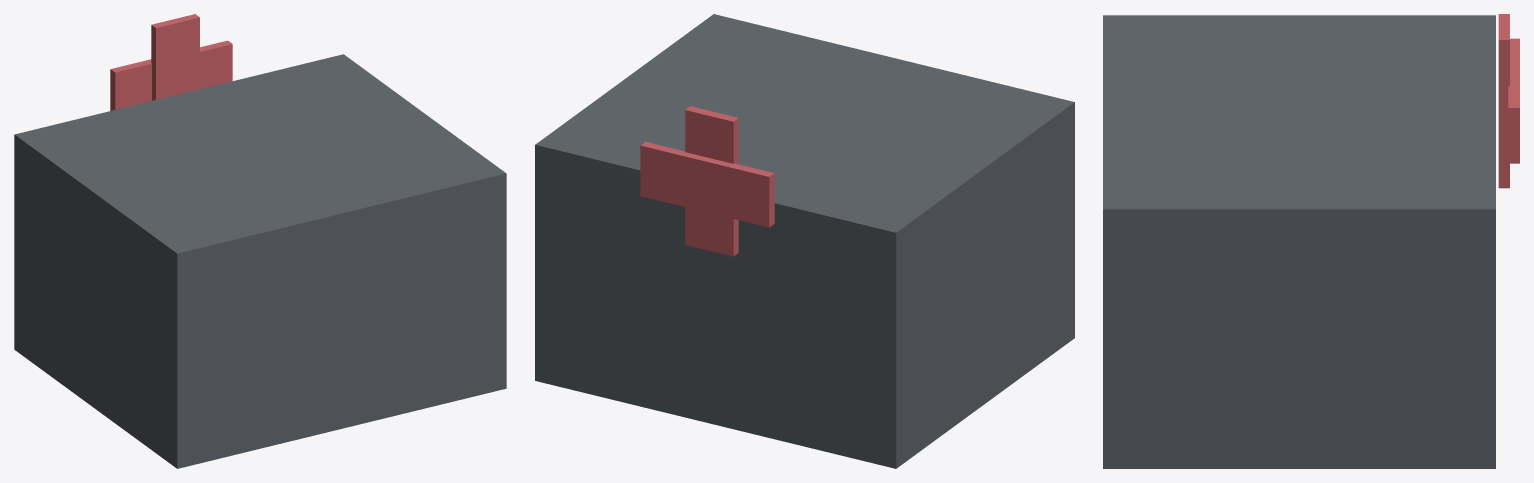
File: health_kit.glb
The picture shows the model from 3 angles, left to right: view 1: azimuth 30°, elevation 25°; view 2: azimuth 150°, elevation 25°; view 3: azimuth 270°, elevation 25°; orthographic projection. The views are drawn at different scales.
Visible parts, largest first — view 1: field_medkit_1, medkit_cross_v_2, medkit_cross_h_3; view 2: field_medkit_1, medkit_cross_h_3, medkit_cross_v_2; view 3: field_medkit_1, medkit_cross_v_2, medkit_cross_h_3.
Boxes of the visible parts, x1,y1,x2,y2 form: field_medkit_1: [14, 54, 506, 468]; medkit_cross_v_2: [151, 14, 199, 100]; medkit_cross_h_3: [110, 40, 232, 110]; field_medkit_1: [535, 14, 1074, 468]; medkit_cross_h_3: [640, 142, 774, 227]; medkit_cross_v_2: [685, 106, 738, 256]; field_medkit_1: [1103, 15, 1495, 468]; medkit_cross_v_2: [1498, 14, 1509, 188]; medkit_cross_h_3: [1508, 38, 1519, 163].
Size of the model in its own units: 0.56 by 0.465 by 0.509.
